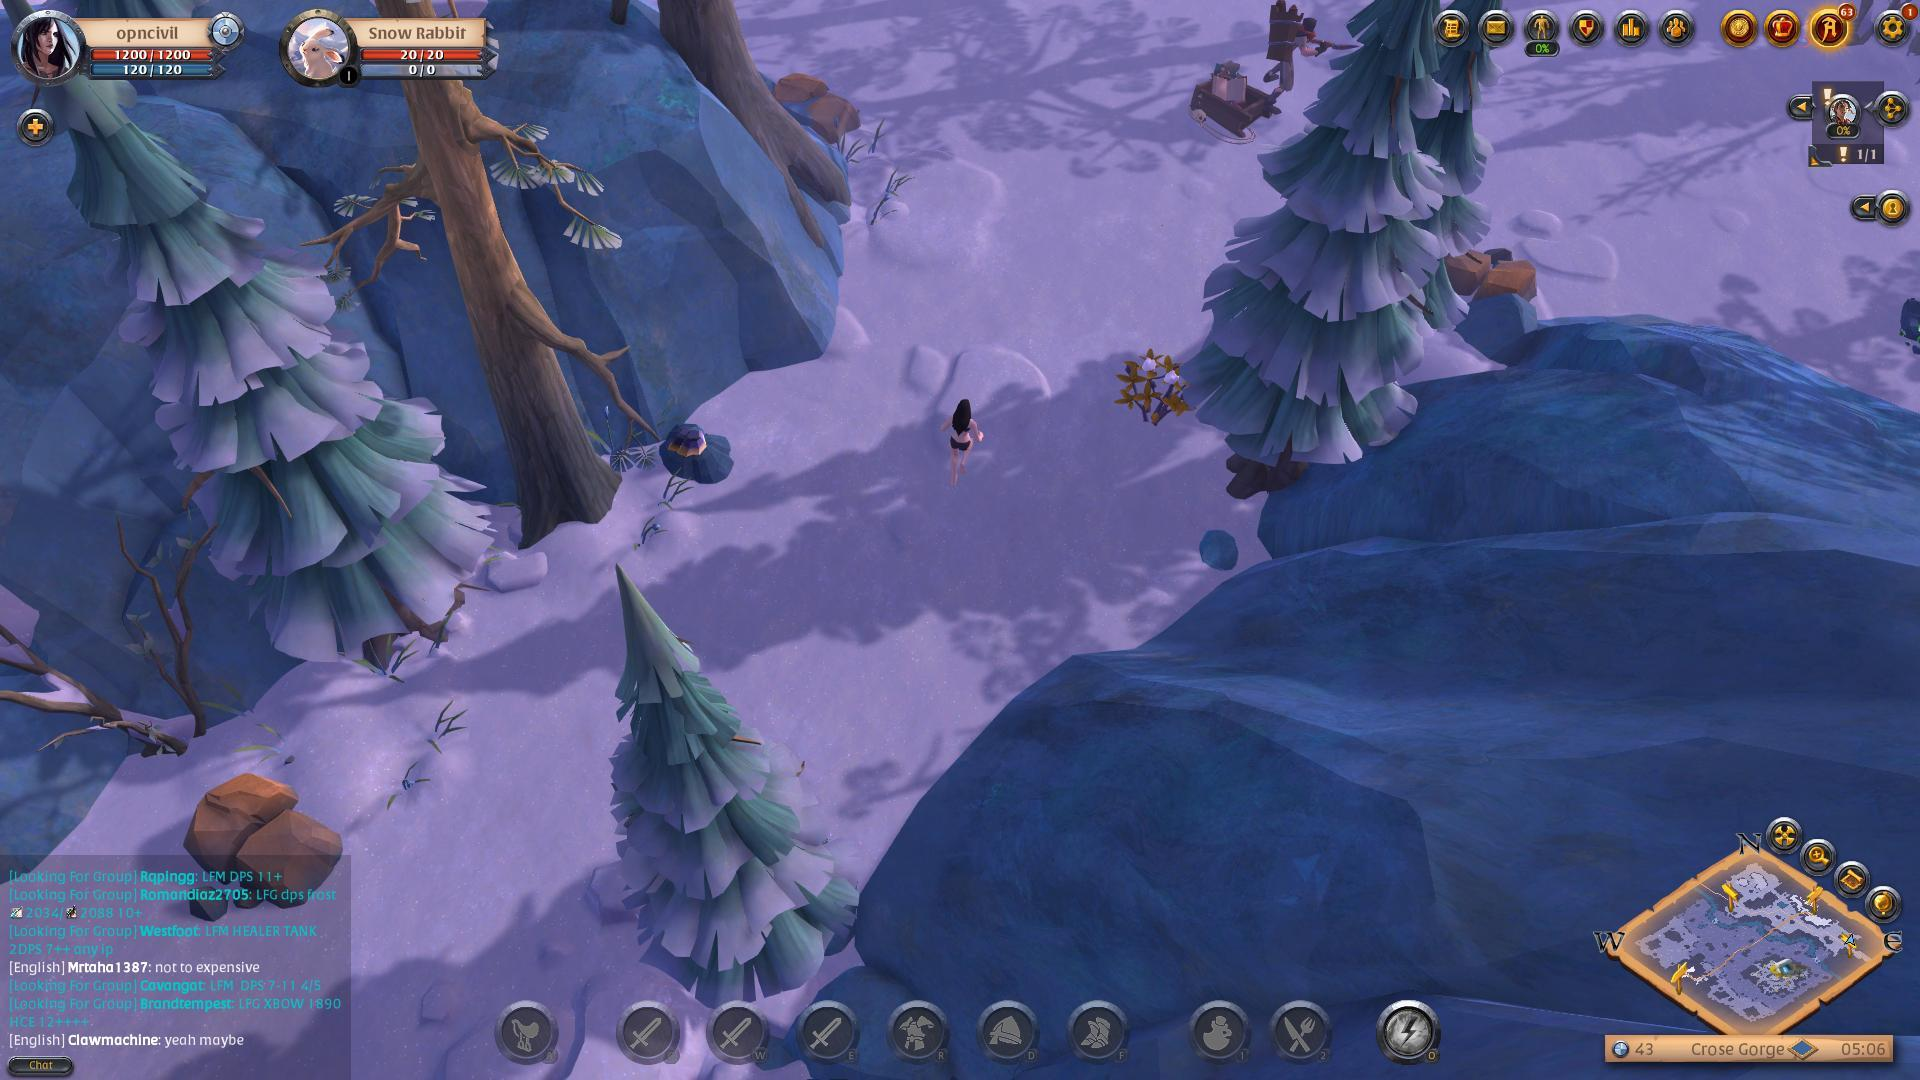copper_ore: (638, 414, 756, 492)
cotton: (1105, 352, 1201, 423)
limestone: (161, 767, 356, 882), (1433, 244, 1556, 310)
